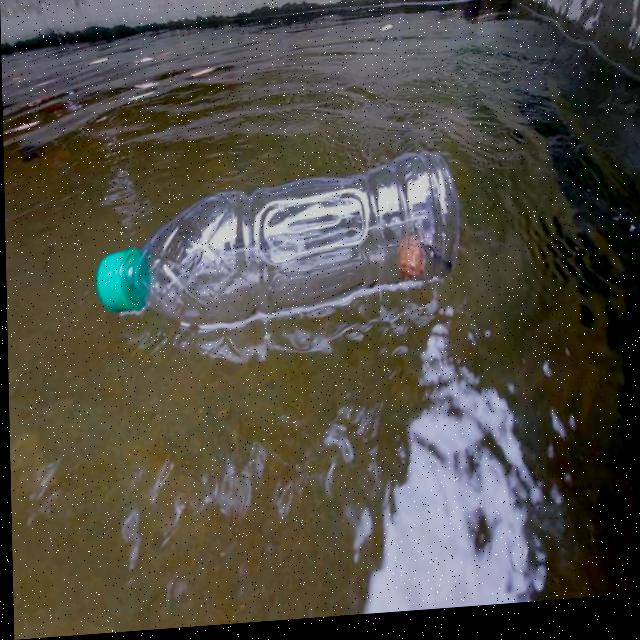waterbottle: (50, 154, 474, 328)
